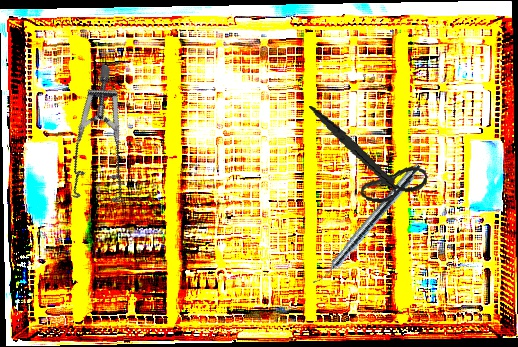Handpiece: (310, 159, 424, 291)
Iris Scissors: (296, 105, 436, 210)
Speculum: (27, 62, 184, 224)
